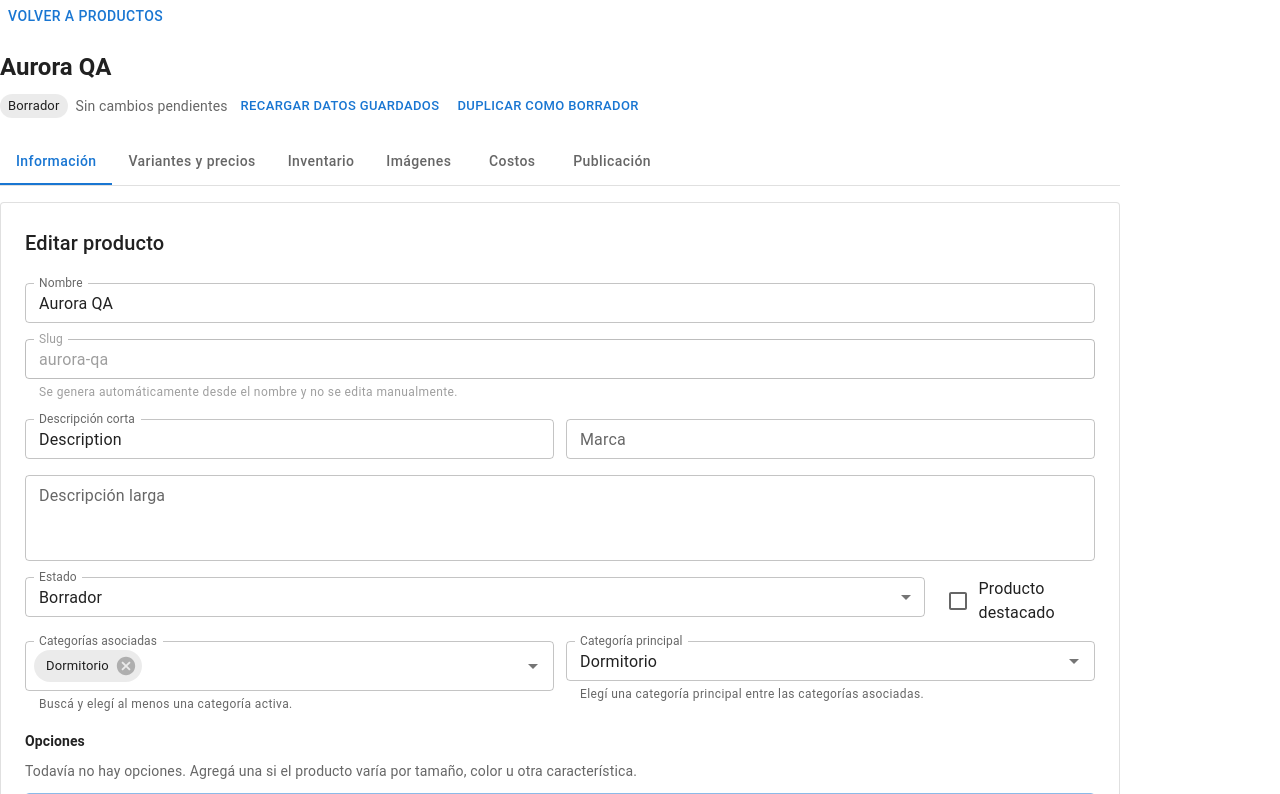
Test case: routed product workspace › sends the saved revision and preserves the form on a conflict
This screenshot has width=1280, height=794.
Replace the text in the field labelled "Nombre" with "My pending title" at (560, 303), box [25, 283, 1095, 323]
(page scrolled)
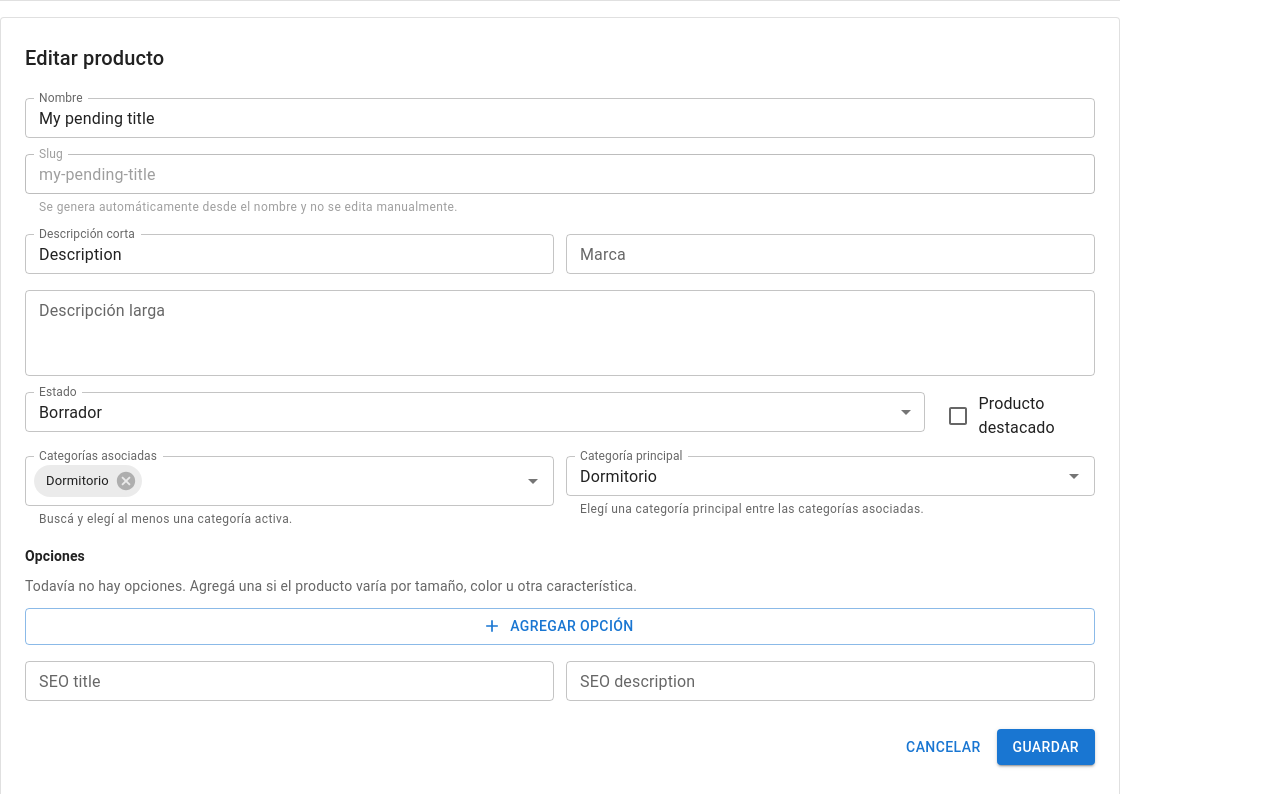
Click the button "Guardar" at (1046, 747), box [996, 729, 1095, 765]
(page scrolled)
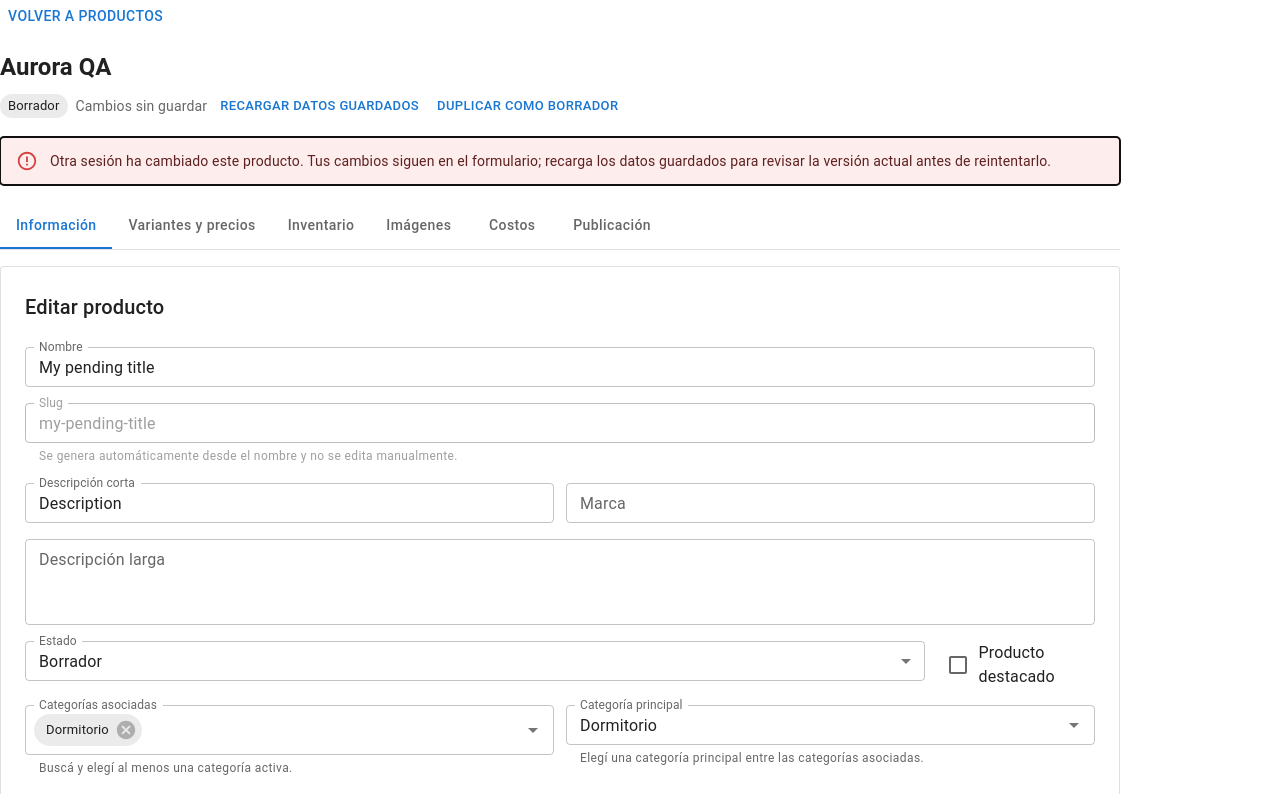
expect the message "Cambios sin guardar" is shown: met, box [76, 96, 207, 116]
expect the text "Otra sesión ha cambiado este producto. Tus cambios siguen en el formulario; recarga los datos guardados para revisar la " is shown: met, box [50, 153, 1051, 169]
Click the button "Recargar datos guardados" at (320, 106), box [215, 90, 424, 121]
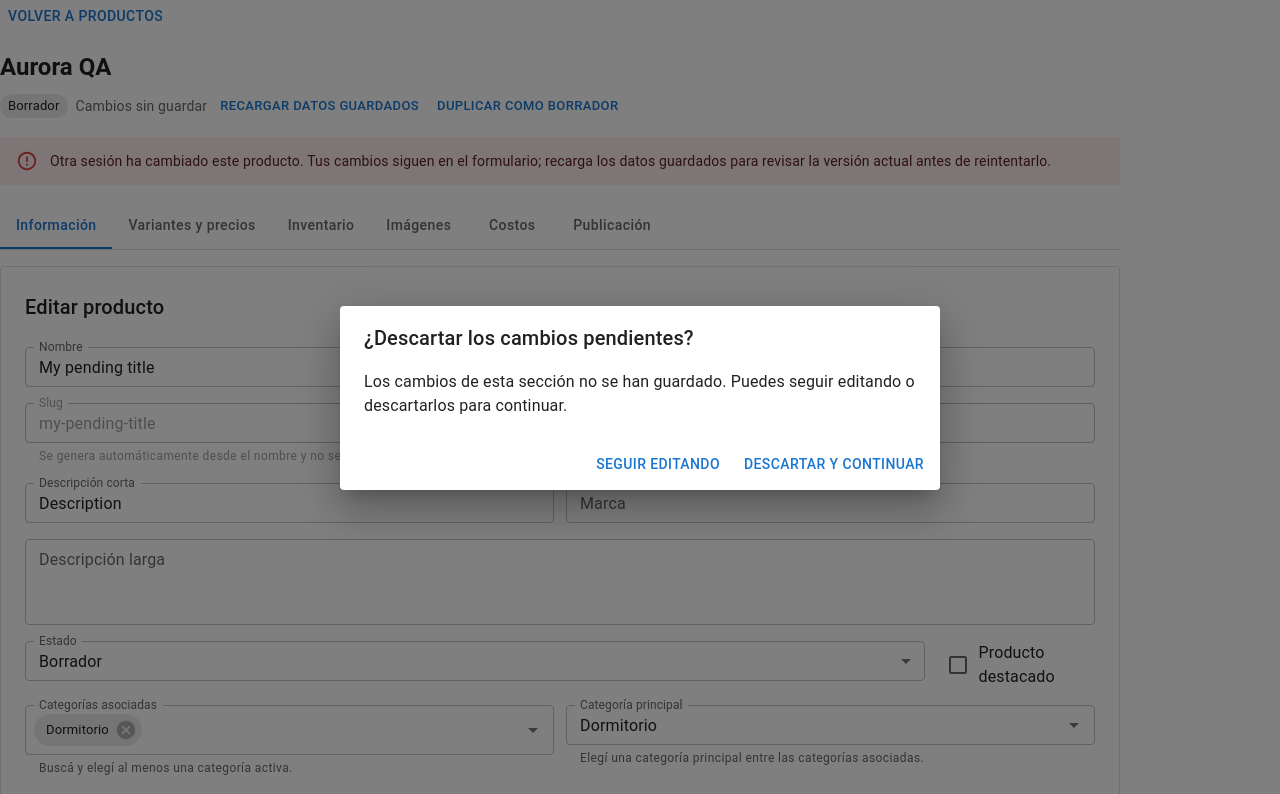
expect the dialog shows "Los cambios de esta sección no se han guardado. Puedes seguir editando o descartarlos para continuar.": met, box [364, 372, 915, 415]
Click the button "Descartar y continuar" at (834, 464), box [736, 446, 932, 482]
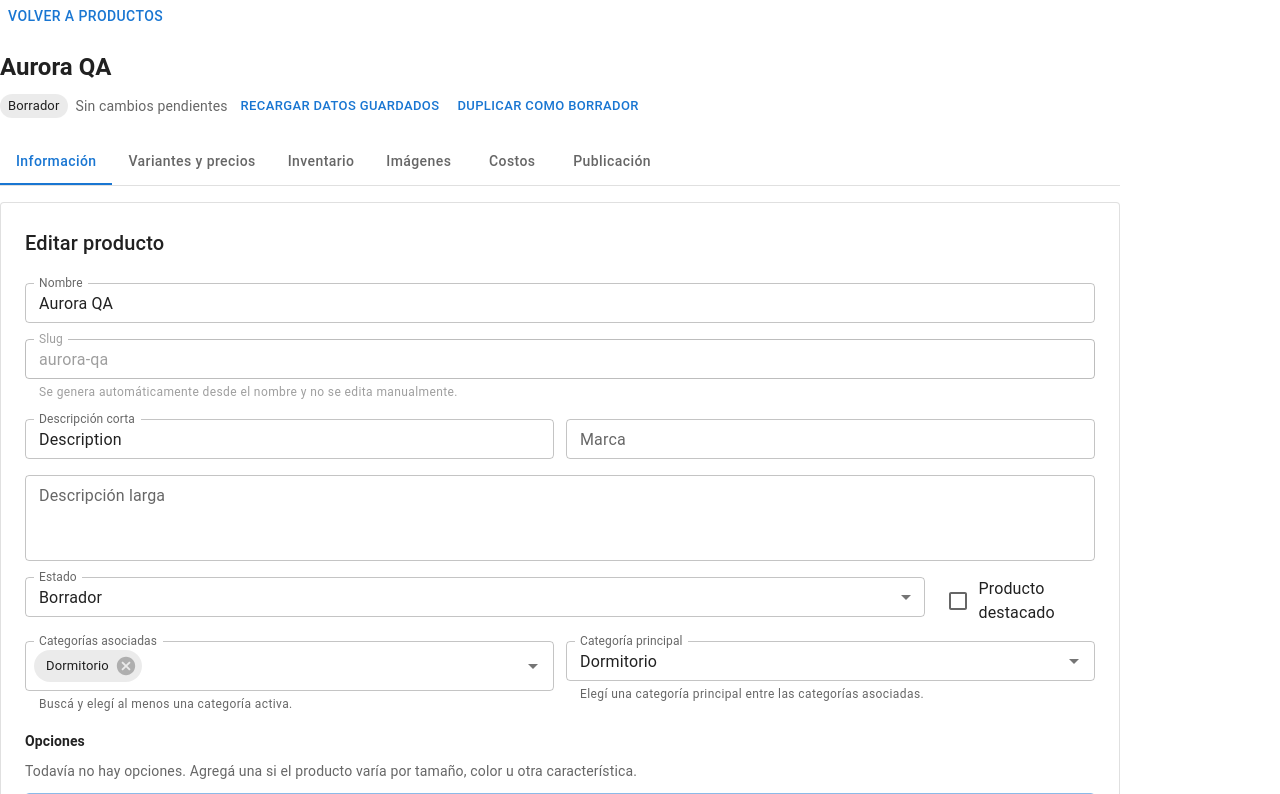
expect the heading "Aurora QA" is shown: met, box [0, 52, 111, 80]
expect the text "Otra sesión ha cambiado este producto. Tus cambios siguen en el formulario; recarga los datos guardados para revisar la " is gone: met
